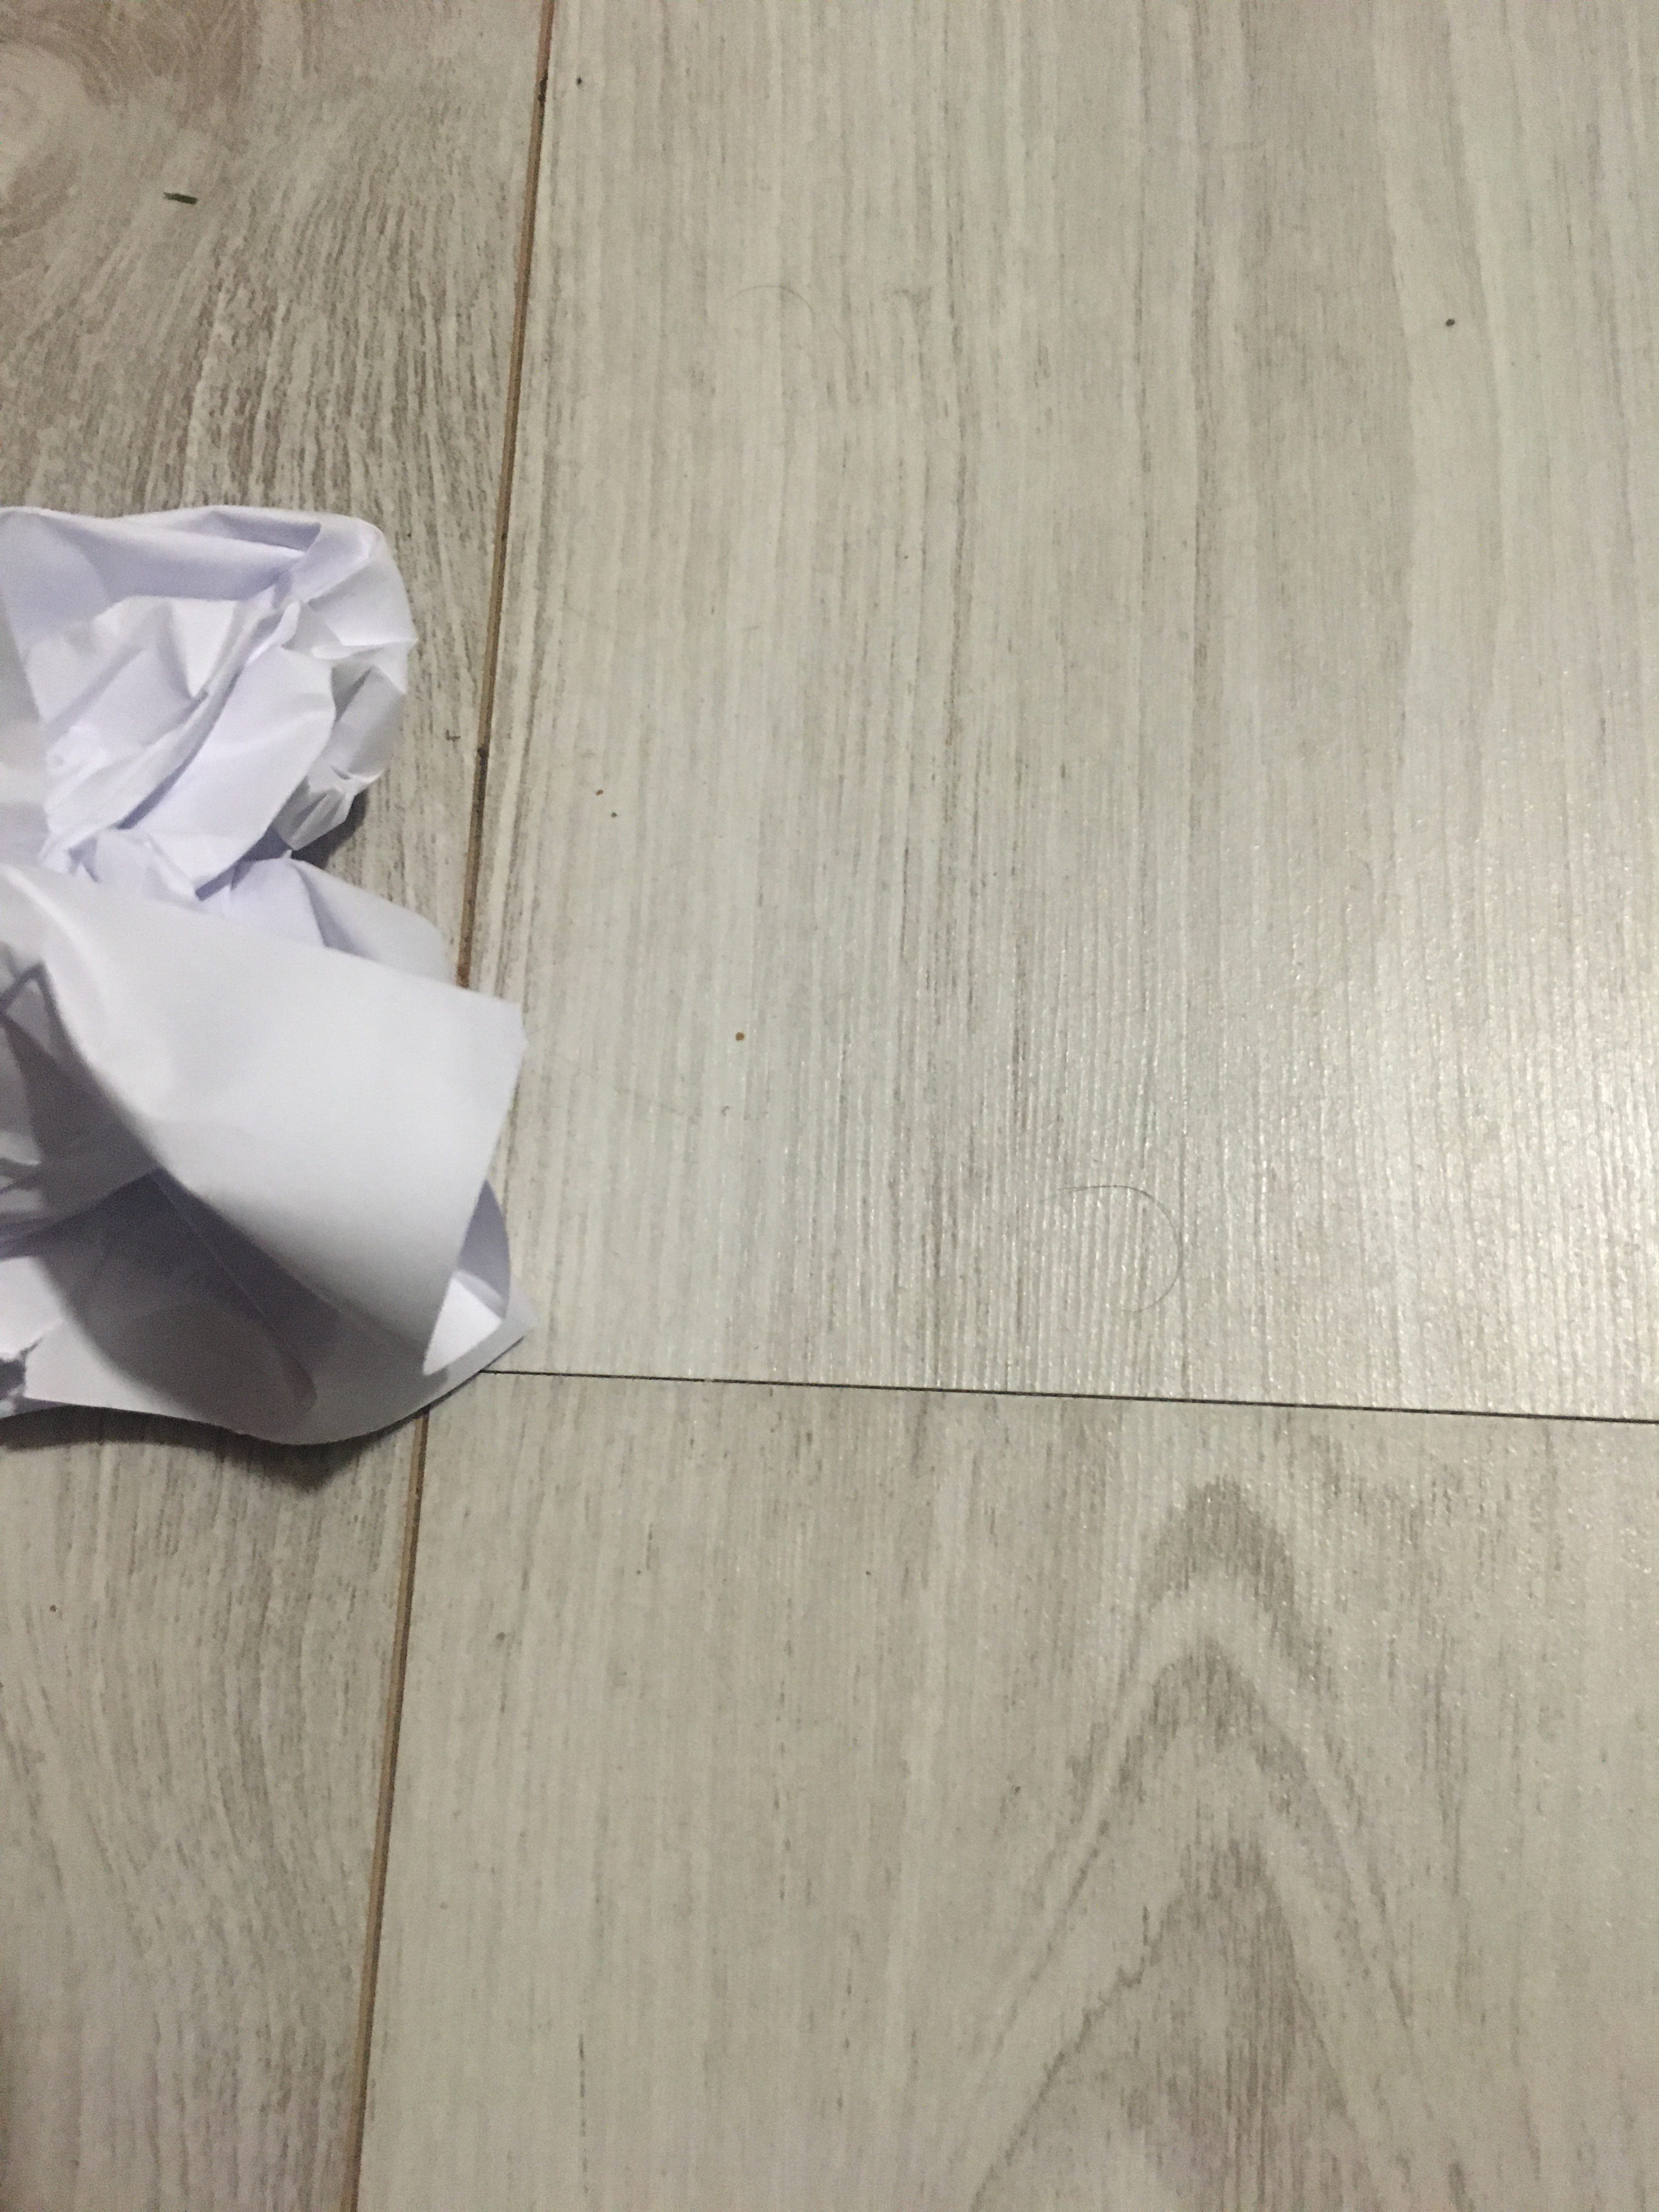paper: (3, 502, 538, 1446)
